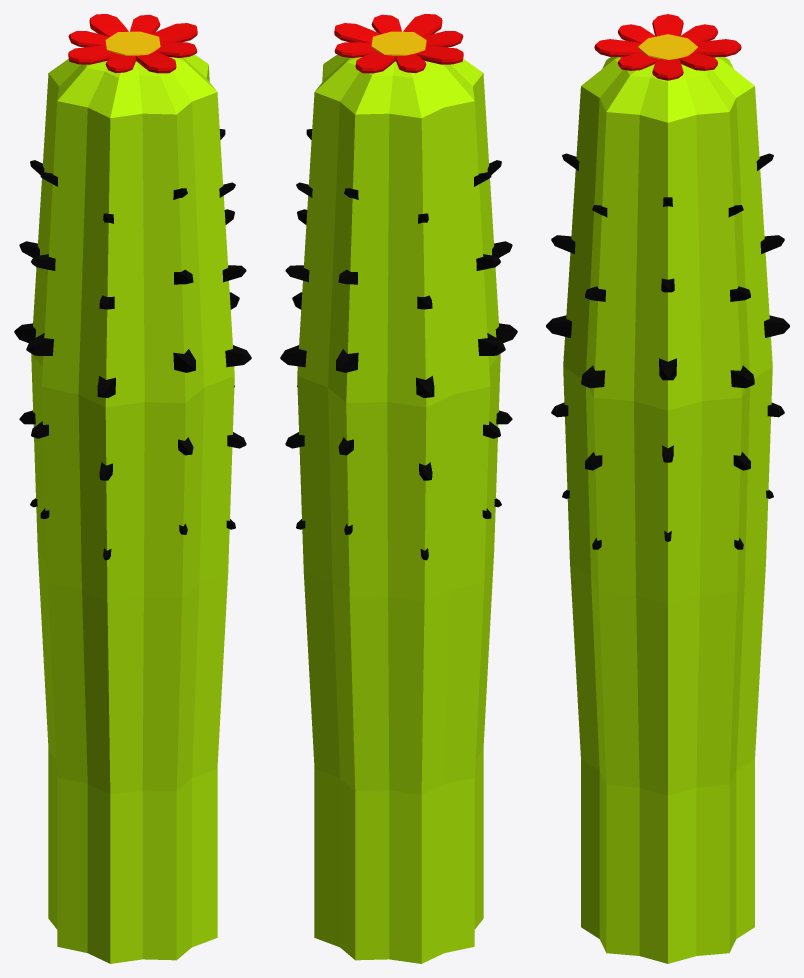
The model's file is Cardon05_00Brazos_Flor_Roja.fbx.
3 renders of one model, left to right at view 1: azimuth 30°, elevation 25°; view 2: azimuth 150°, elevation 25°; view 3: azimuth 270°, elevation 25°, orthographic.
Visible parts, largest first — view 1: Cactus, Espinas, Flor_Roja; view 2: Cactus, Espinas, Flor_Roja; view 3: Cactus, Espinas, Flor_Roja.
Boxes of the visible parts, box(x1,y1,x2,y2) form: Cactus: box(31, 54, 234, 963); Espinas: box(14, 129, 251, 560); Flor_Roja: box(68, 14, 197, 73); Cactus: box(297, 54, 500, 963); Espinas: box(280, 129, 517, 560); Flor_Roja: box(334, 14, 463, 73); Cactus: box(563, 57, 772, 963); Espinas: box(546, 153, 789, 549); Flor_Roja: box(594, 14, 741, 80).
Size of the model in its own units: 53.18 by 212 by 53.18.
